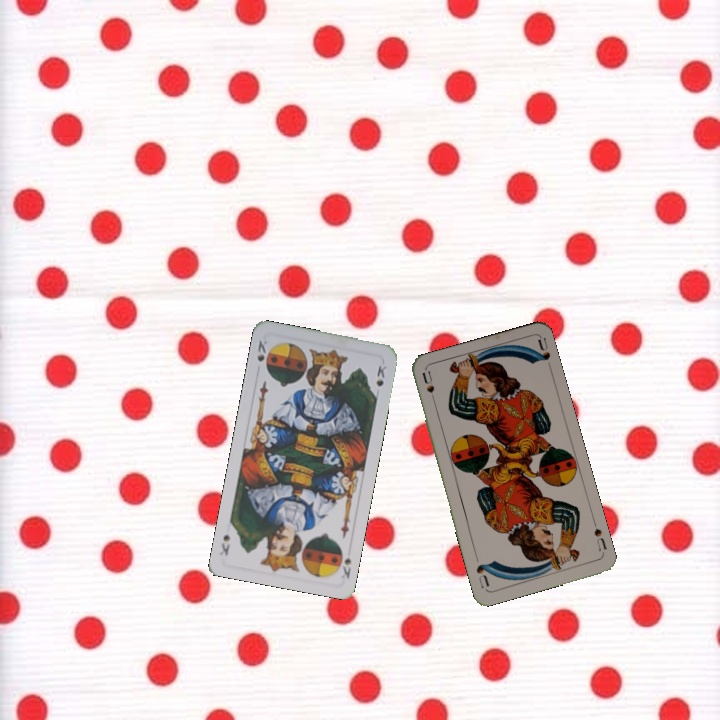SK: (334, 545, 354, 581), (253, 335, 270, 364)
SU: (418, 368, 439, 408), (589, 516, 609, 557)
